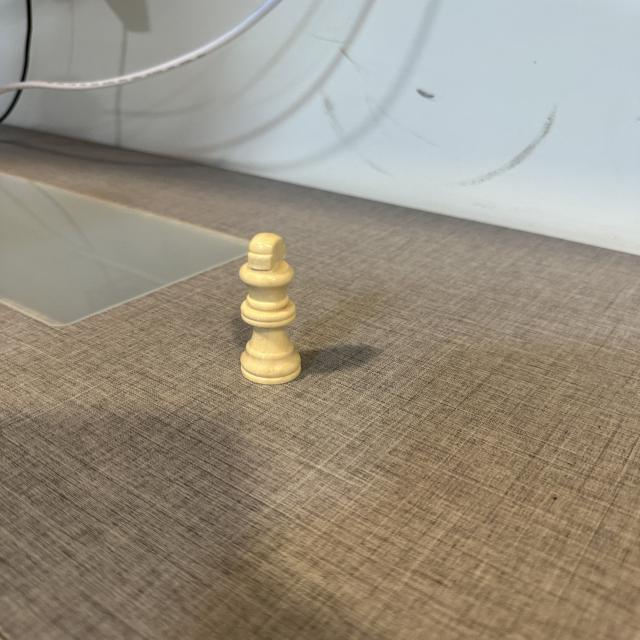White-King: (238, 232, 303, 386)
